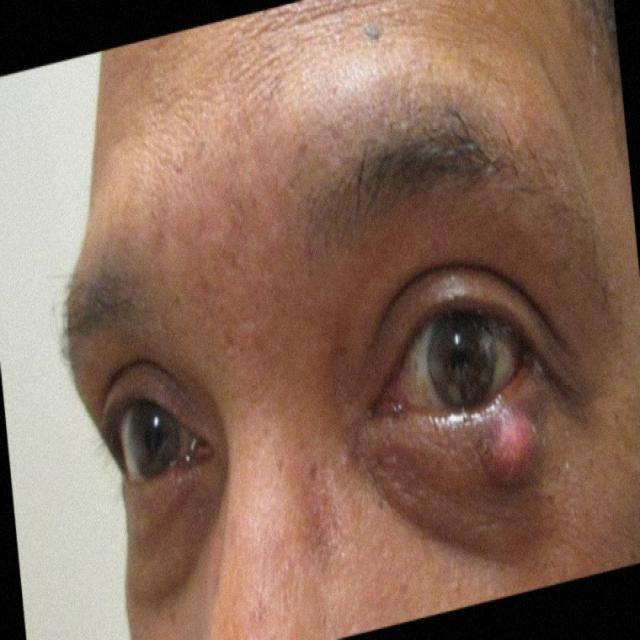Chalazion: (360, 255, 584, 540)
Healthy-Eye: (68, 330, 228, 525)
